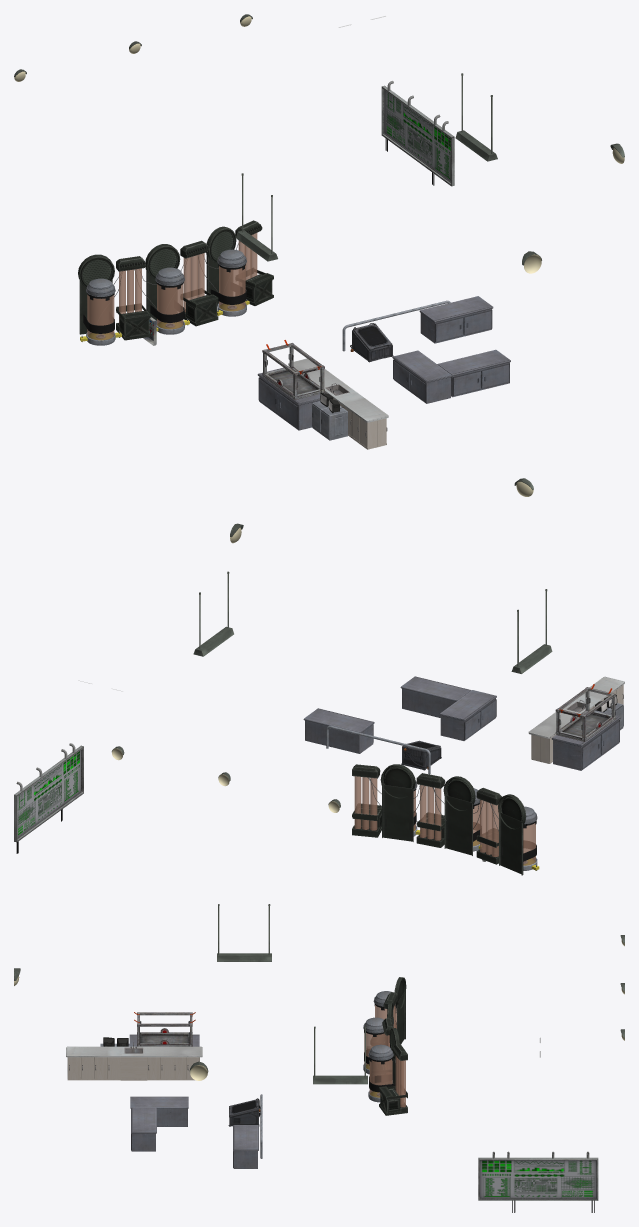
Rendered from Assets1.fbx.
The picture shows the model from 3 angles, top to bottom: view 1: azimuth 30°, elevation 25°; view 2: azimuth 150°, elevation 25°; view 3: azimuth 270°, elevation 25°; orthographic projection. The views are drawn at different scales.
Parts seen in each view (by area): view 1: polySurface844, BigScreen, Desk1, Desk5, Desk4, Desk3, FishTank, Desk2, Body_Screens, ComputerTable1, polySurface771, polySurface841 (+4 smaller); view 2: polySurface844, BigScreen, Desk5, Desk1, Desk3, Desk2, FishTank, Desk4, ComputerTable1; view 3: BigScreen, Desk1, polySurface844, FishTank, Desk3, Desk4, Desk5, ComputerTable1, polySurface823, polySurface889, polySurface843, polySurface869.
Part boxes in pixels (x1,y1,x2,y2): polySurface844: (78,220,273,340); BigScreen: (381,81,454,186); Desk1: (288,358,388,449); Desk5: (419,296,493,343); Desk4: (437,349,510,397); Desk3: (392,350,452,403); FishTank: (262,340,324,399); Desk2: (257,367,324,430); Body_Screens: (312,392,347,440); ComputerTable1: (350,323,393,362); polySurface771: (87,294,114,340); polySurface841: (80,278,121,345); polySurface844: (352,764,536,875); BigScreen: (14,743,83,853); Desk5: (303,708,374,753); Desk1: (528,676,624,763); Desk3: (439,690,496,740); Desk2: (551,709,620,770); FishTank: (555,684,615,741); Desk4: (400,676,471,717); ComputerTable1: (401,740,441,770); BigScreen: (478,1151,598,1212); Desk1: (66,1042,202,1080); polySurface844: (364,977,407,1115); FishTank: (134,1012,195,1046); Desk3: (130,1096,188,1126); Desk4: (131,1107,156,1151); Desk5: (233,1125,258,1168); ComputerTable1: (228,1098,260,1126); polySurface823: (369,1059,392,1097); polySurface889: (313,1075,367,1084); polySurface843: (368,1044,393,1102); polySurface869: (217,953,271,961).
Size of the model in its own units: 26.08 by 11.98 by 37.56.
